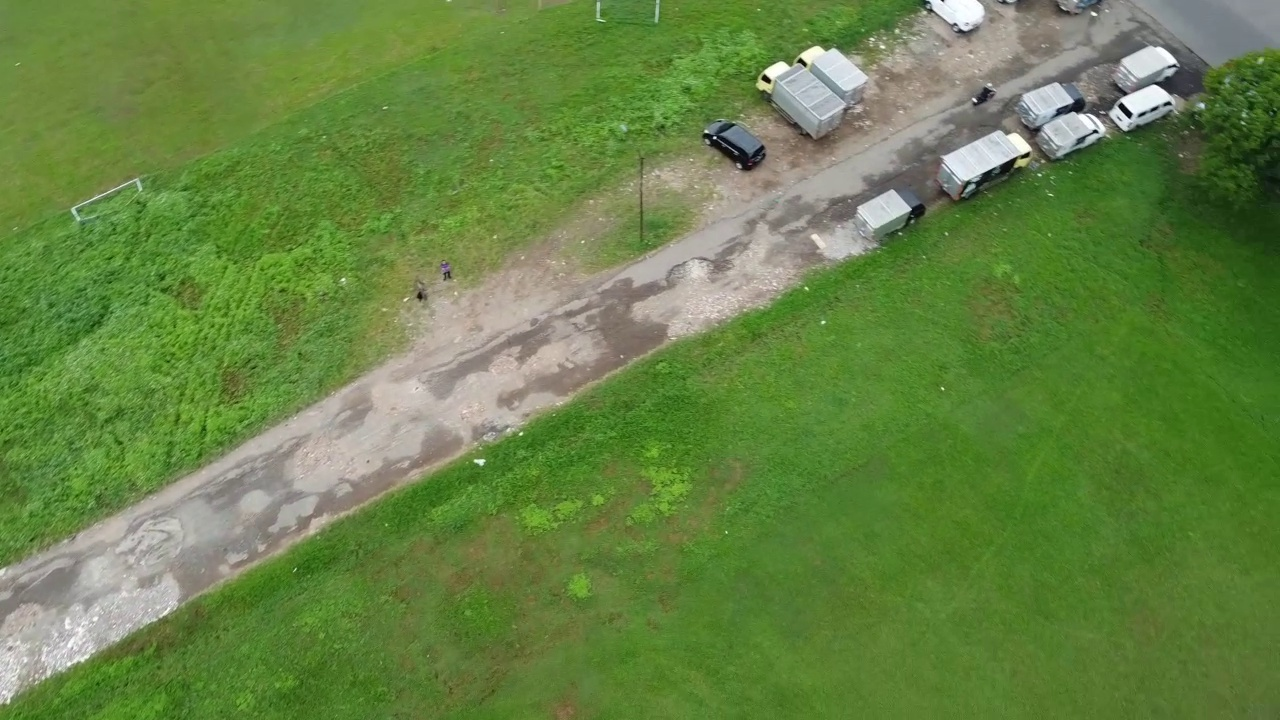mobil: (703, 115, 768, 172), (1113, 81, 1173, 132), (922, 1, 988, 36)
